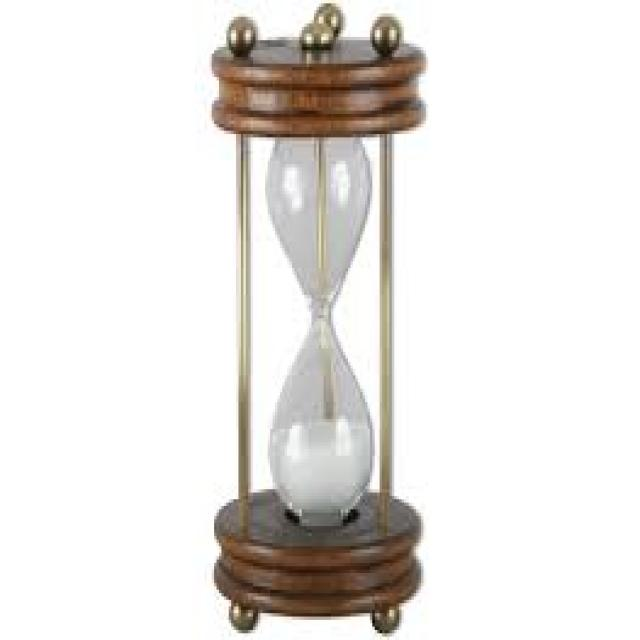clock: (202, 3, 440, 640)
